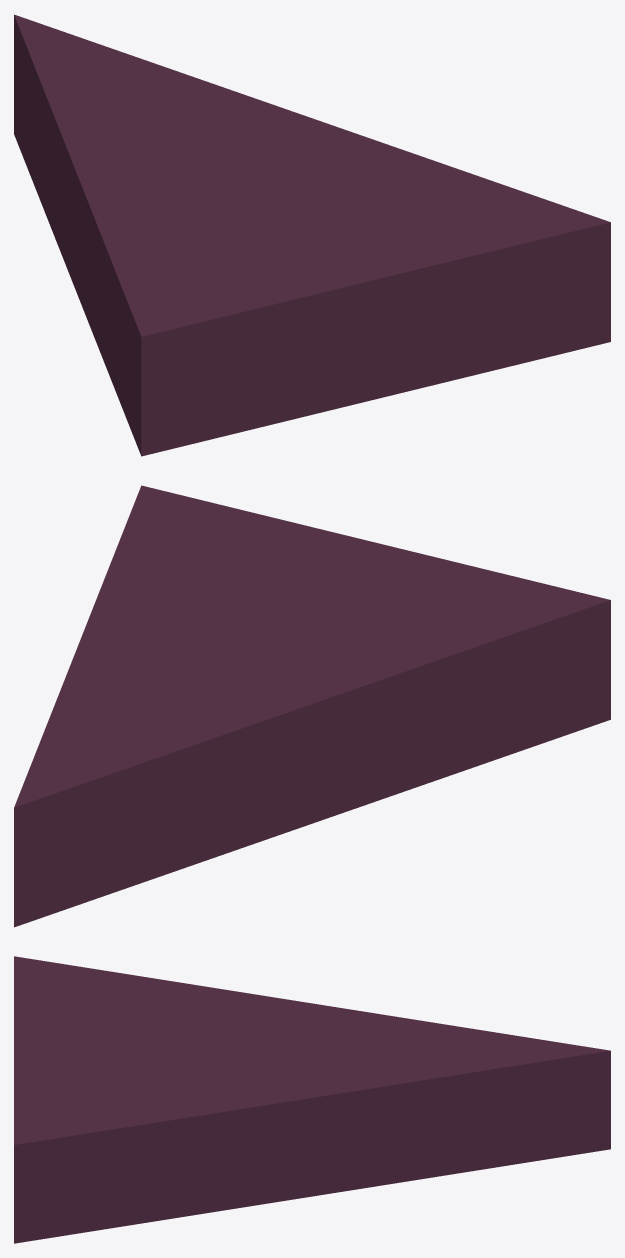
Rendered from triangulito.fbx.
3 views of the same model, one above another, from view 1: azimuth 30°, elevation 25°; view 2: azimuth 150°, elevation 25°; view 3: azimuth 270°, elevation 25° (orthographic). The views are drawn at different scales.
Parts seen in each view (by area): view 1: Cylinder.006; view 2: Cylinder.006; view 3: Cylinder.006.
Boxes of the visible parts, x1,y1,x2,y2 form: Cylinder.006: [14, 14, 610, 456]; Cylinder.006: [14, 485, 610, 927]; Cylinder.006: [14, 956, 610, 1243].
Bounding box in the file's own units: 81.58 × 19.87 × 109.
